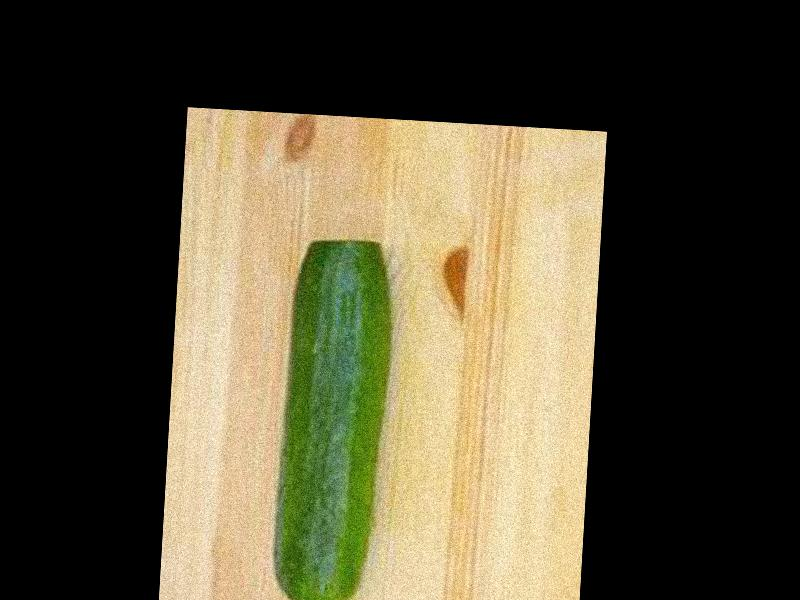Cucumber: (271, 239, 392, 600)
